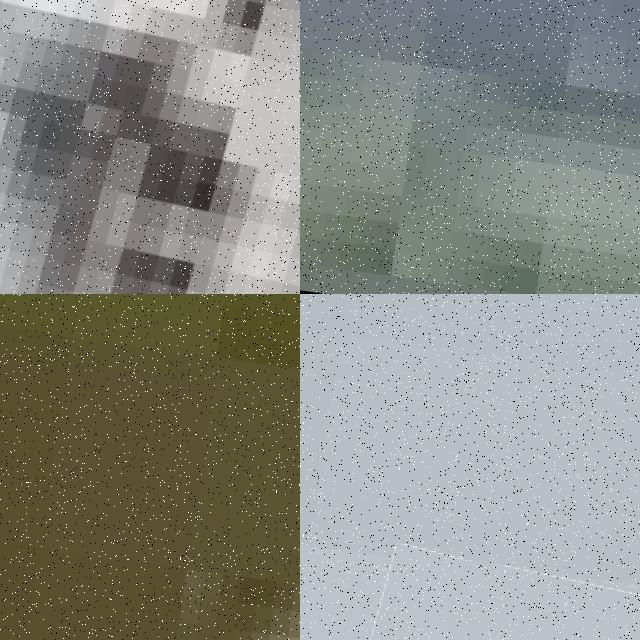drone: (0, 0, 300, 294), (342, 547, 640, 640)
